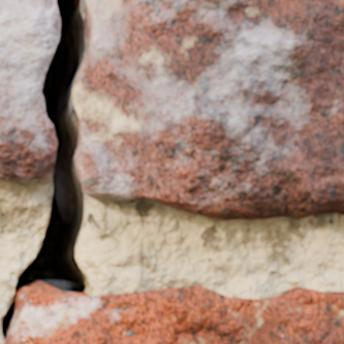brick: (8, 286, 343, 343)
broken_brick: (77, 0, 343, 221), (0, 0, 57, 180)
crack: (0, 0, 96, 343)
